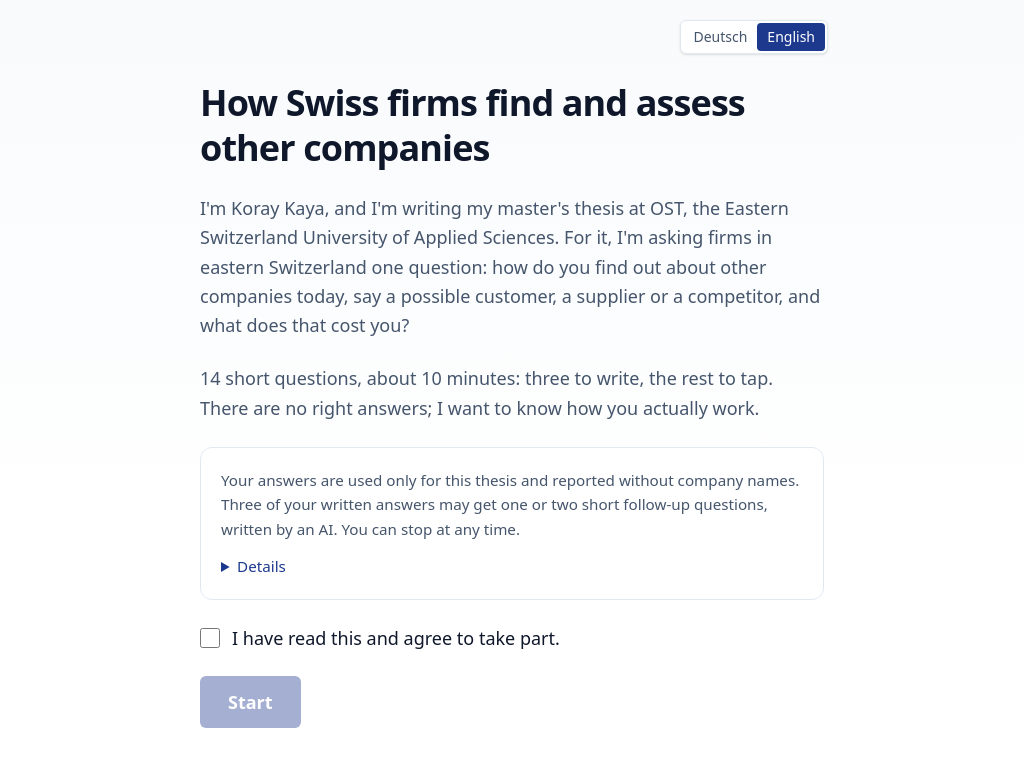
Test: Form › says plainly when too many requests came from this network, on an answer
Click the checkbox: (210, 638) [200, 628, 220, 648]
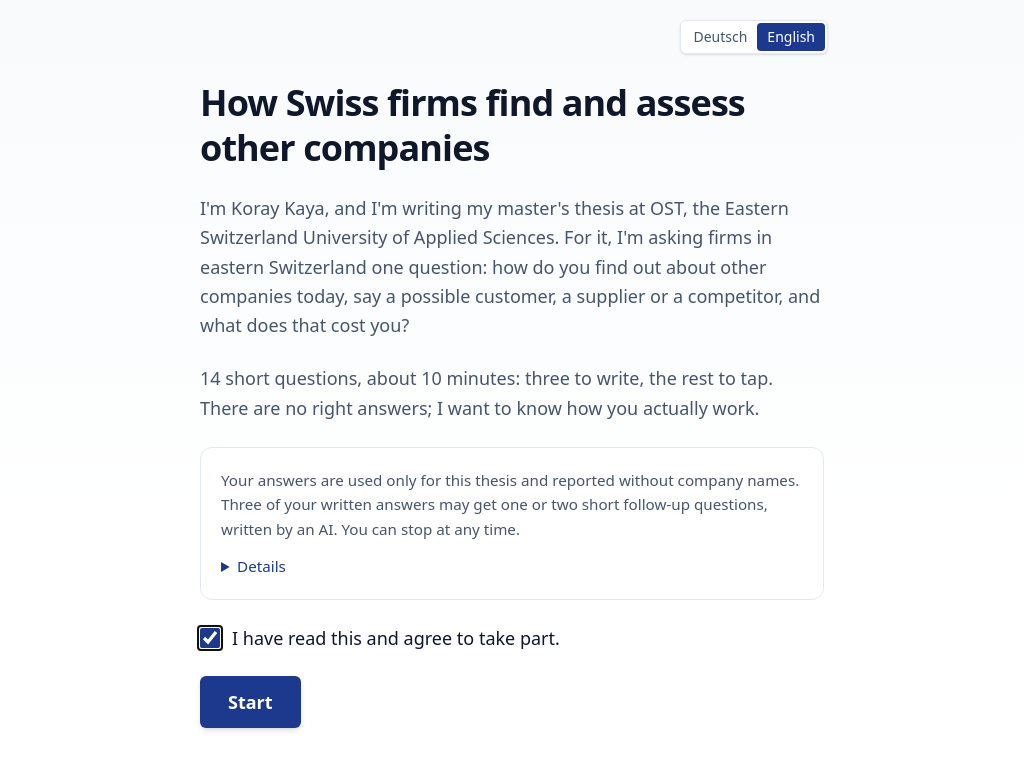
Click the button "Start": (250, 702) [200, 676, 301, 728]
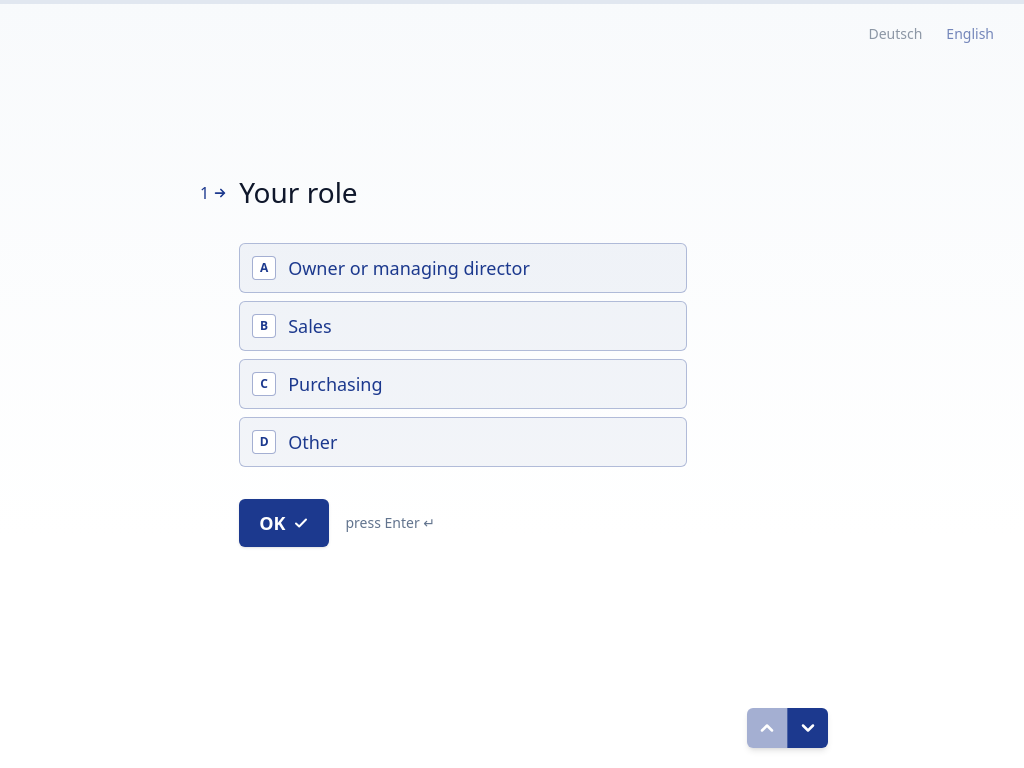
Result: the heading "Your role" is shown at [239, 173, 358, 211]
Click the radio button labelled "B Sales": (310, 326) [239, 301, 687, 351]
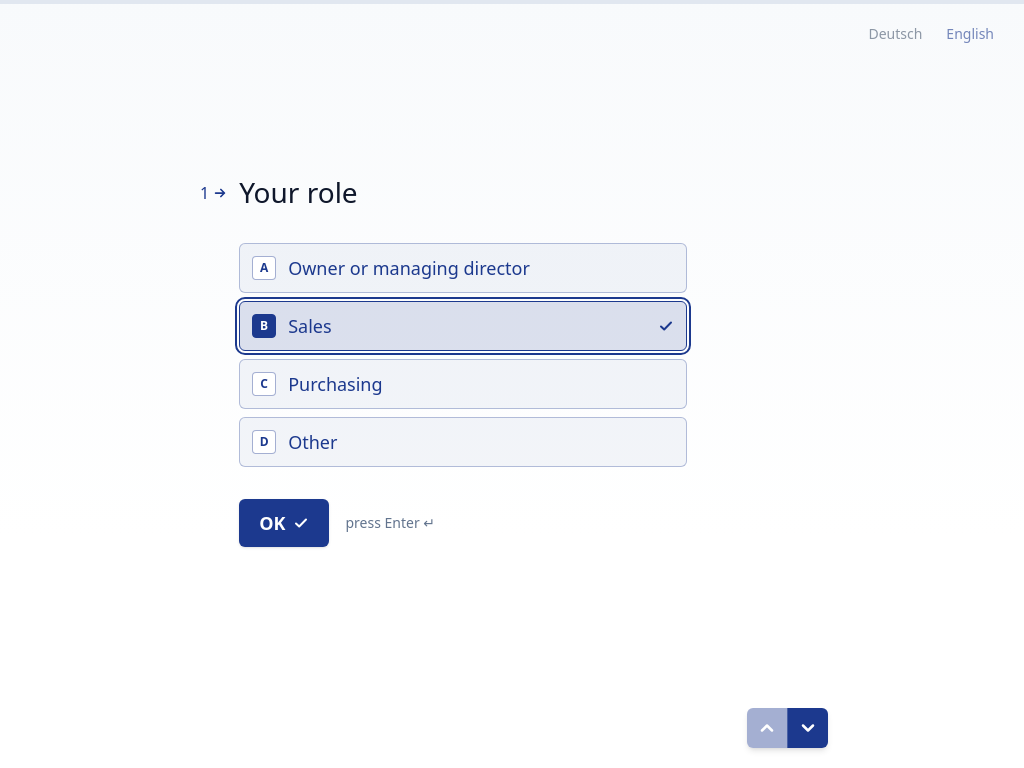
Click the button "OK": (284, 523) [239, 499, 330, 547]
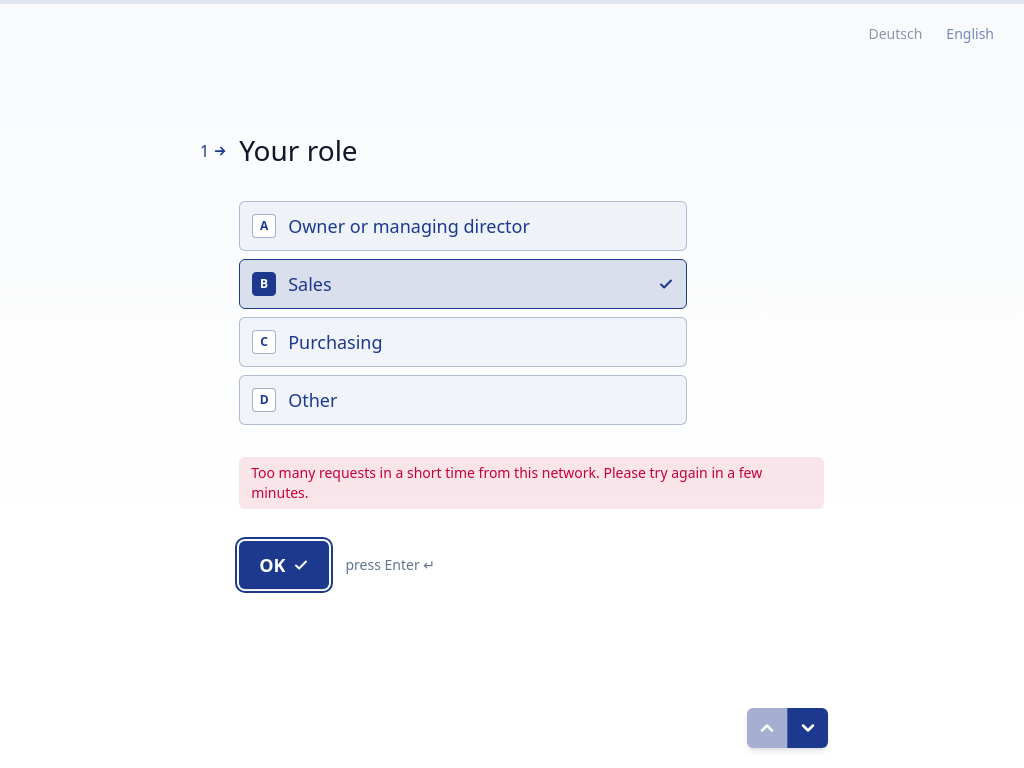
Result: the message shows "Too many requests" at [251, 463, 762, 502]
